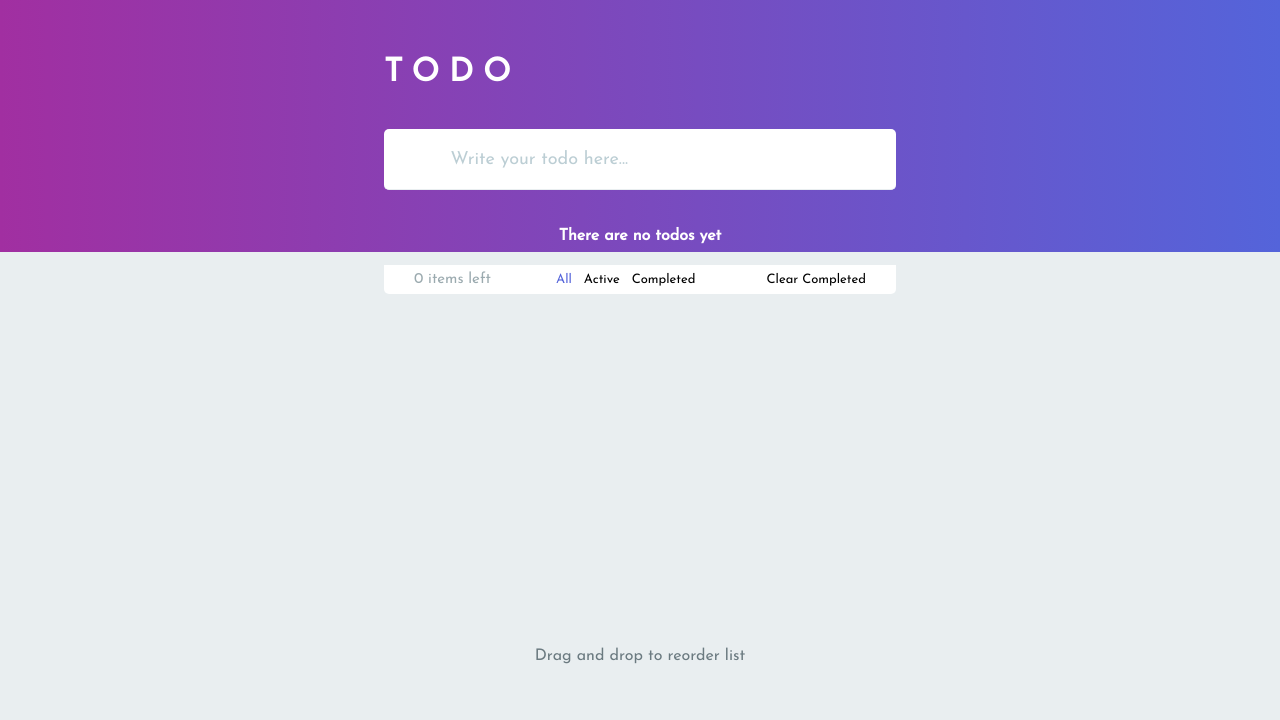
todo app page › should remove todo
Type "NewTodoContent" into the field with placeholder "Write your todo here...".
click(666, 159); type("NewTodoContent")  # box left=449, top=144, right=882, bottom=174
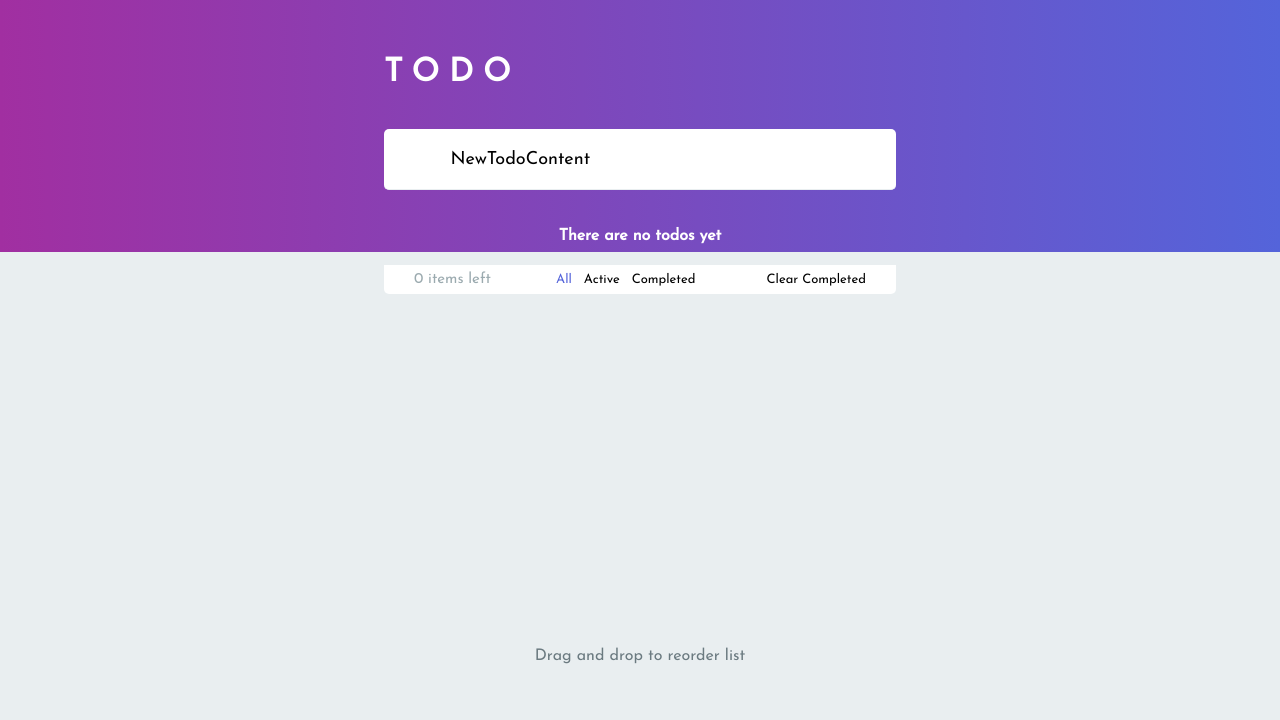
Press Enter in the field, box left=449, top=144, right=882, bottom=174
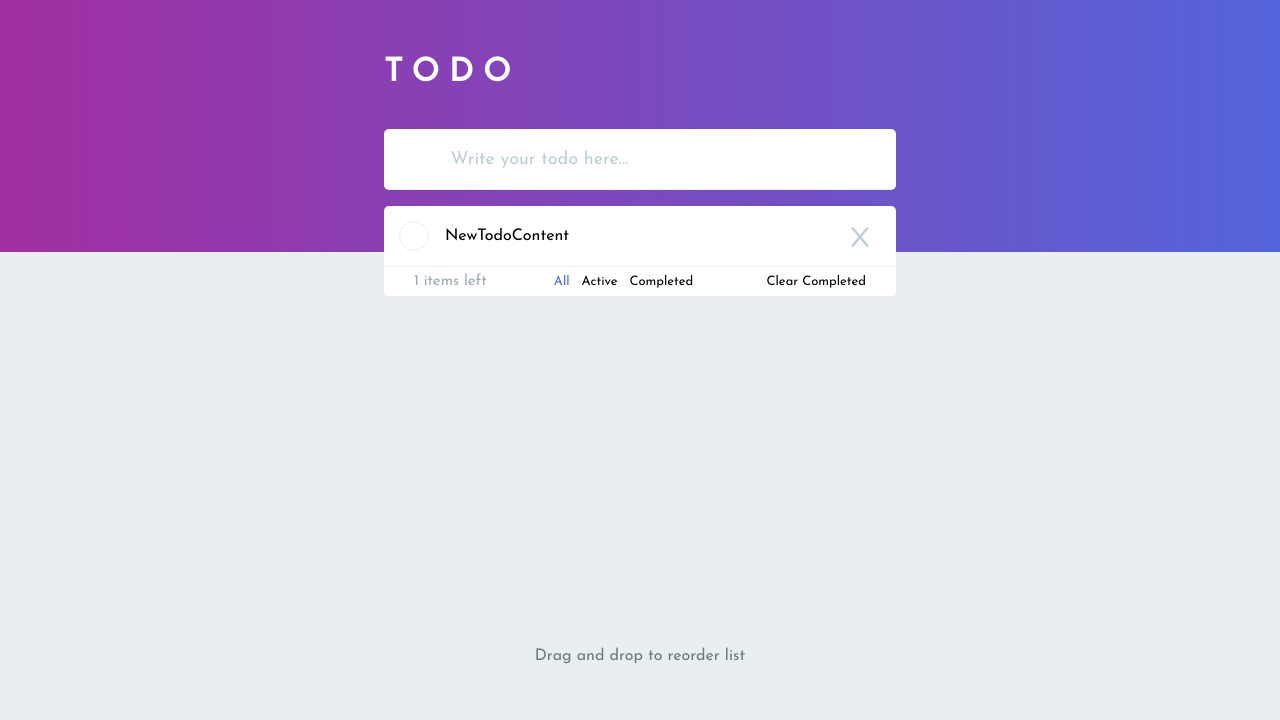
Check: the text "NewTodoContent" is shown, box left=445, top=228, right=839, bottom=244
Click the 1st button.
click(860, 236)  # box left=839, top=221, right=881, bottom=251
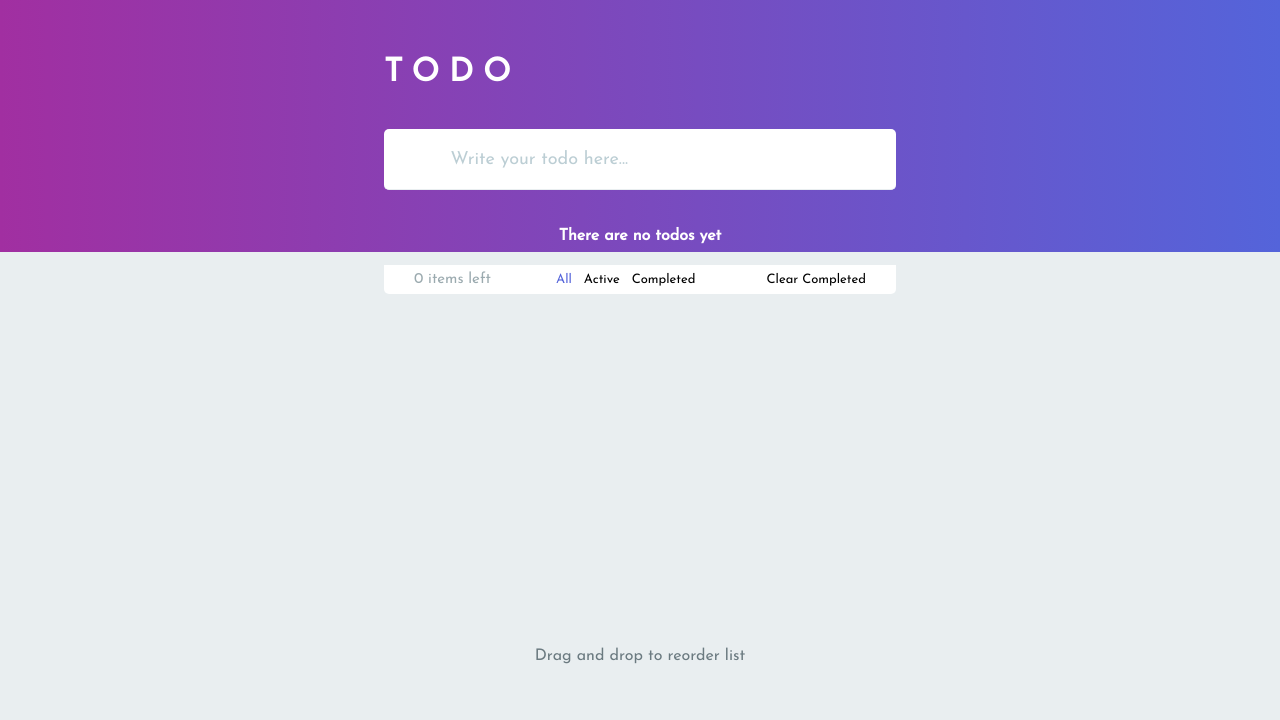
Check: the button "NewTodoContent" is gone
